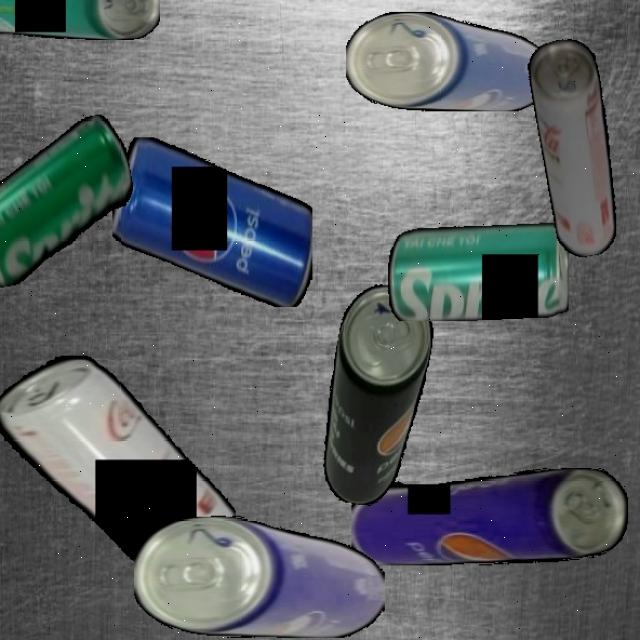debris: (0, 356, 236, 566), (111, 136, 312, 307), (134, 514, 385, 638), (311, 280, 440, 511), (350, 468, 628, 566), (0, 111, 146, 291), (524, 34, 630, 260), (346, 11, 550, 111), (387, 222, 569, 321), (0, 0, 160, 40)
